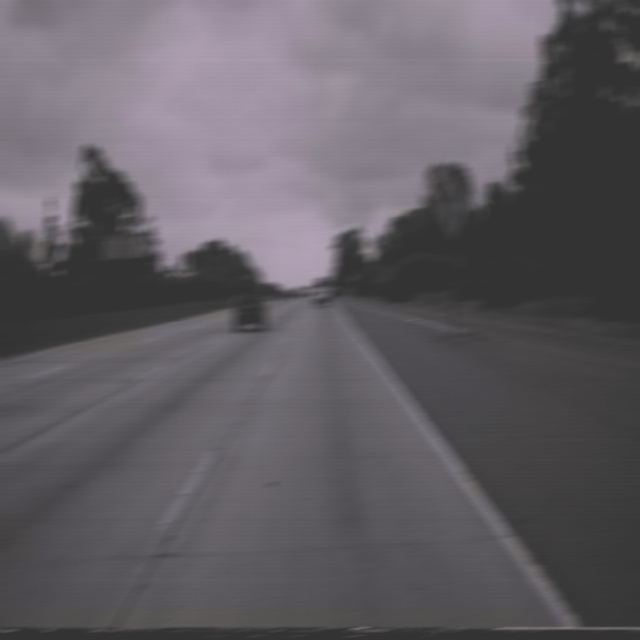merge: (436, 174, 470, 241)
